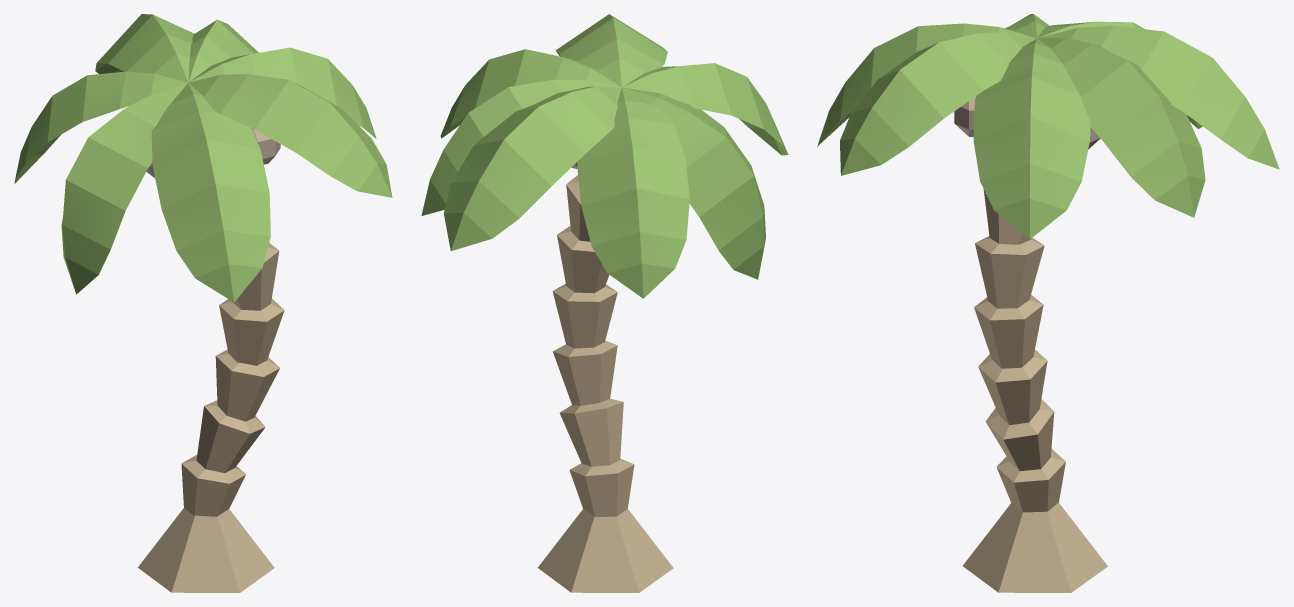
Rendered from Beach_Prop_Tree_Palm_2.glb.
3 renders of one model, left to right at view 1: azimuth 30°, elevation 25°; view 2: azimuth 150°, elevation 25°; view 3: azimuth 270°, elevation 25°, orthographic. The views are drawn at different scales.
Parts seen in each view (by area): view 1: Beach_Prop_Tree_Palm_2; view 2: Beach_Prop_Tree_Palm_2; view 3: Beach_Prop_Tree_Palm_2.
Part boxes in pixels (bbox=[...]): Beach_Prop_Tree_Palm_2: bbox=[14, 14, 392, 592]; Beach_Prop_Tree_Palm_2: bbox=[421, 14, 788, 592]; Beach_Prop_Tree_Palm_2: bbox=[817, 14, 1279, 592].
Size of the model in its own units: 2.69 by 4.12 by 3.18.
